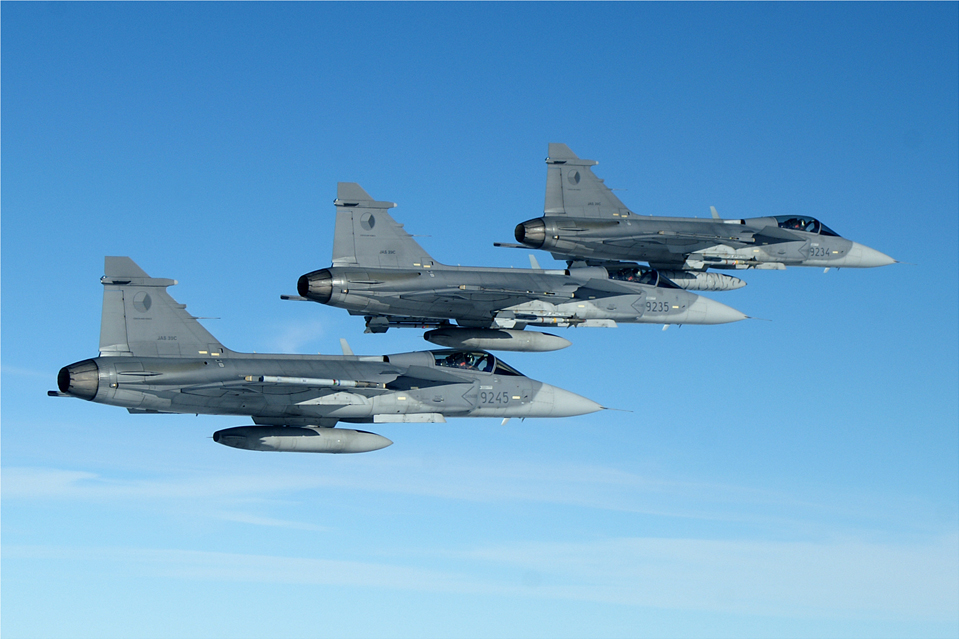JAS39: (47, 256, 633, 453), (280, 182, 773, 351), (493, 142, 919, 291)
